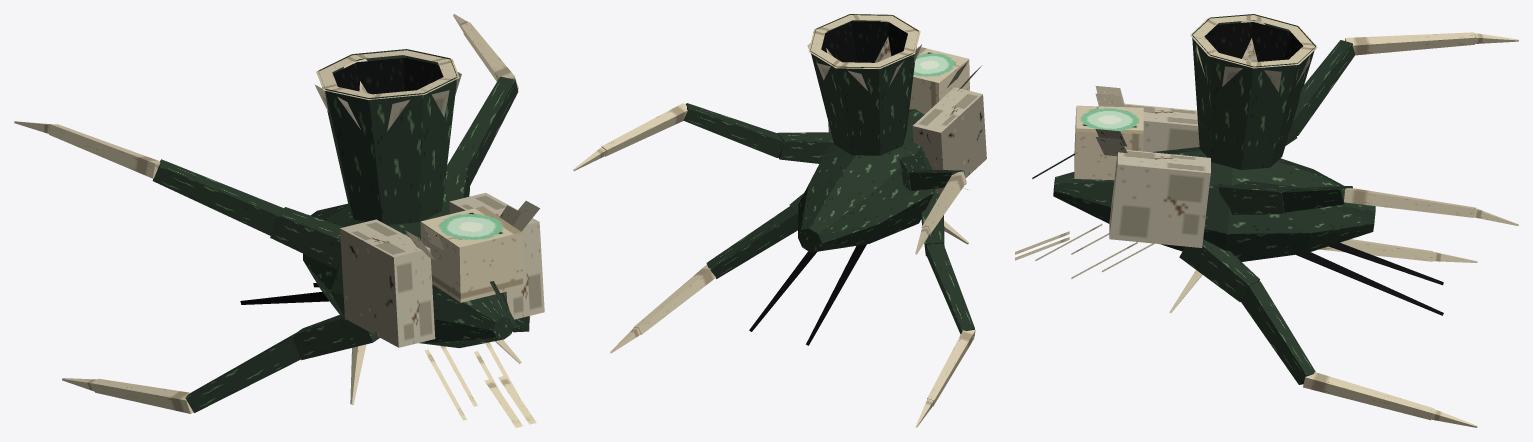
The model's file is vore_neutral.obj.
3 renders of one model, left to right at view 1: azimuth 30°, elevation 25°; view 2: azimuth 150°, elevation 25°; view 3: azimuth 270°, elevation 25°, orthographic. The views are drawn at different scales.
Parts seen in each view (by area): view 1: root, funnel, head, leg_fl_femur, leg_fr_femur, leg_rl_femur, leg_fl_coxa, leg_rl_coxa, leg_fl_tibia, leg_rl_tibia, leg_fr_tibia, leg_fr_coxa (+2 smaller); view 2: root, funnel, head, leg_rr_femur, leg_fr_femur, leg_rl_femur, leg_fr_coxa, leg_rr_tibia, leg_fr_tibia, leg_rl_tibia, leg_fl_tibia, leg_fl_femur (+4 smaller); view 3: root, funnel, head, leg_rr_femur, leg_rr_coxa, leg_fl_femur, leg_rr_tibia, leg_fl_tibia, leg_fr_coxa, leg_fr_tibia, leg_fr_femur, leg_rl_tibia (+2 smaller).
Boxes of the visible parts, box(x1,y1,x2,y2) form: root: box(303, 192, 544, 427); funnel: box(316, 49, 459, 225); head: box(420, 206, 523, 328); leg_fl_femur: box(152, 159, 283, 235); leg_fr_femur: box(447, 76, 518, 186); leg_rl_femur: box(185, 334, 300, 412); leg_fl_coxa: box(270, 207, 343, 269); leg_rl_coxa: box(291, 314, 379, 360); leg_fl_tibia: box(49, 124, 160, 178); leg_rl_tibia: box(92, 378, 193, 413); leg_fr_tibia: box(461, 22, 518, 89); leg_fr_coxa: box(441, 168, 469, 212); root: box(798, 61, 986, 252); funnel: box(808, 14, 920, 155); head: box(909, 47, 969, 114); leg_rr_femur: box(706, 206, 798, 278); leg_fr_femur: box(683, 103, 783, 157); leg_rl_femur: box(926, 243, 974, 335); leg_fr_coxa: box(777, 132, 833, 163); leg_rr_tibia: box(633, 264, 715, 334); leg_fr_tibia: box(601, 103, 687, 156); leg_rl_tibia: box(927, 329, 975, 406); leg_fl_tibia: box(921, 171, 966, 233); leg_fl_femur: box(909, 169, 966, 190); root: box(1015, 86, 1375, 313); funnel: box(1190, 14, 1317, 169); head: box(1032, 105, 1143, 180); leg_rr_femur: box(1241, 281, 1315, 384); leg_rr_coxa: box(1179, 239, 1259, 301); leg_fl_femur: box(1293, 40, 1355, 135); leg_rr_tibia: box(1303, 372, 1433, 420); leg_fl_tibia: box(1345, 32, 1475, 55); leg_fr_coxa: box(1218, 181, 1294, 214); leg_fr_tibia: box(1344, 188, 1475, 217); leg_fr_femur: box(1282, 186, 1352, 212); leg_rl_tibia: box(1319, 239, 1433, 261).
Bounding box in the file's own units: 0.8713 × 0.6809 × 1.
Materials: 1 (1 with a texture image).
